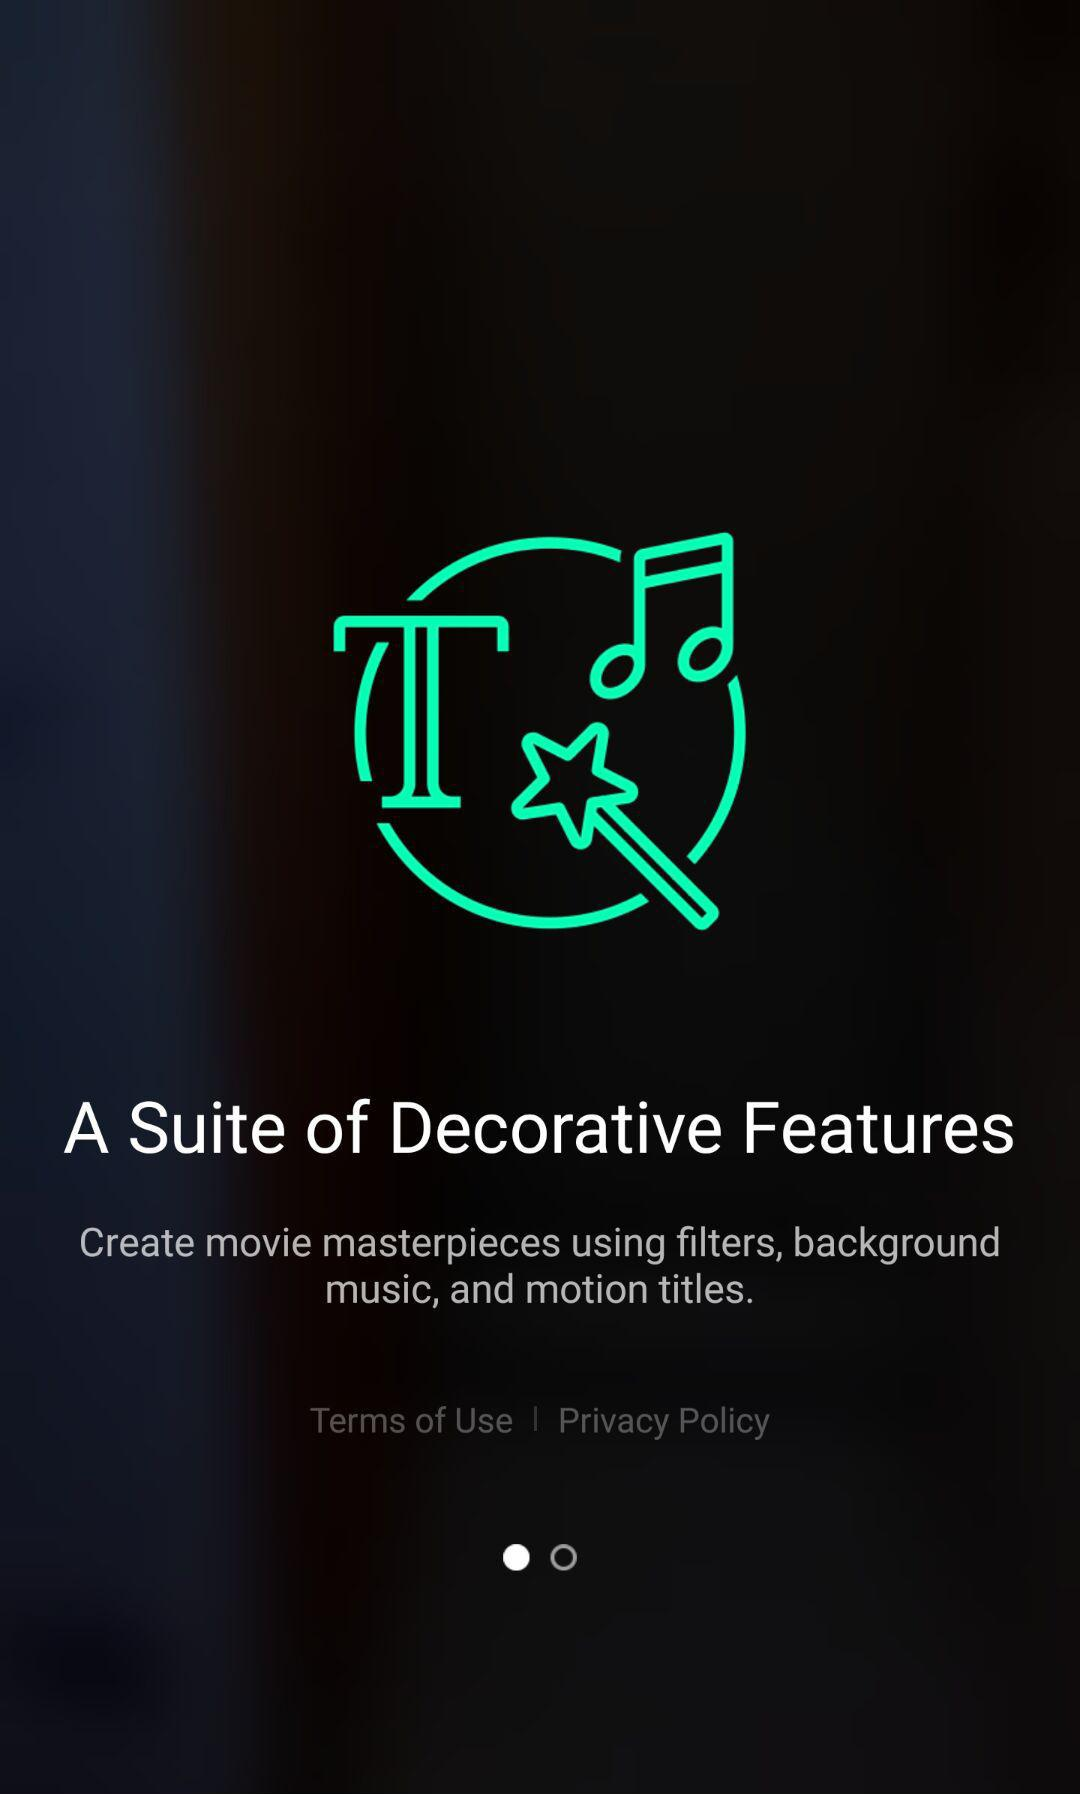Image: (329, 533, 751, 932)
PageIndicator: (500, 1542, 580, 1574)
Text: (79, 1226, 1001, 1313), (61, 1099, 1015, 1161), (556, 1402, 773, 1443), (305, 1402, 515, 1440)
